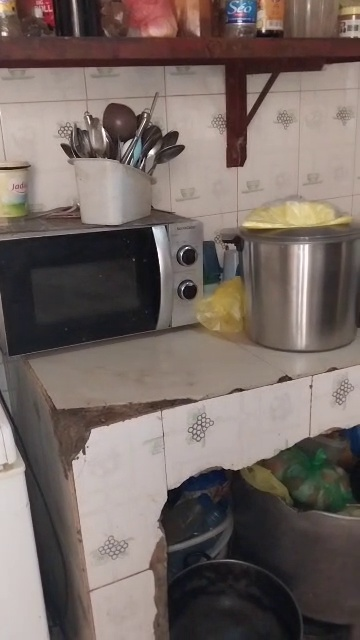microwave: (3, 215, 235, 360)
